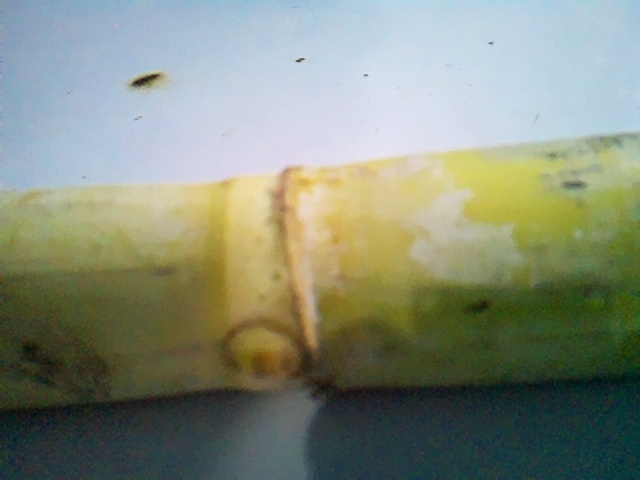Good Sugarcane: (3, 130, 640, 409)
Node: (173, 163, 378, 396)
